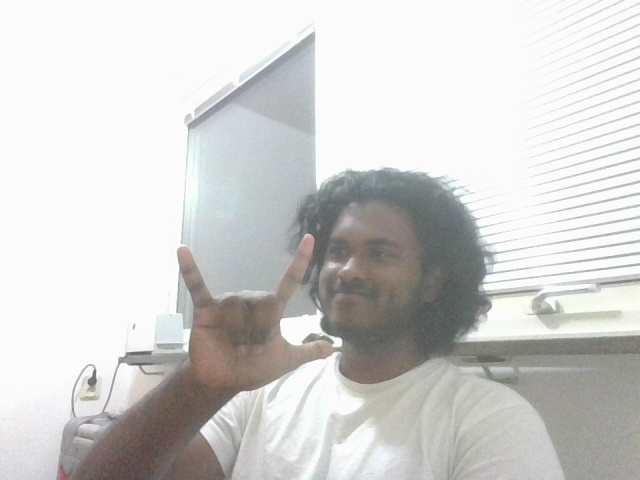I Love You: (177, 237, 345, 400)
